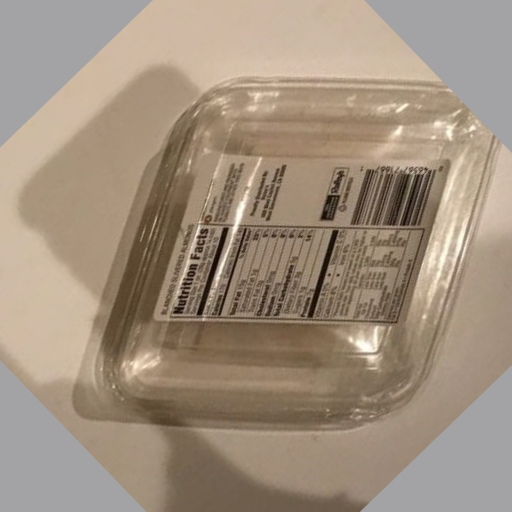Plastic_4: (90, 75, 501, 423)
